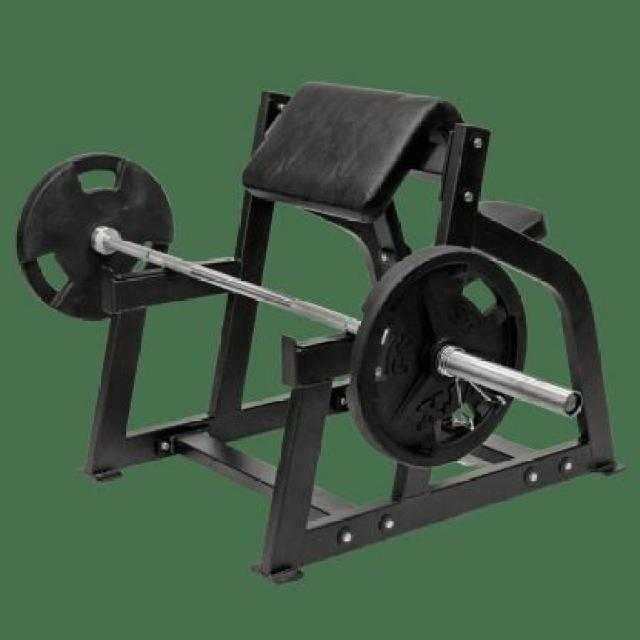arm curl machine: (16, 80, 630, 582)
